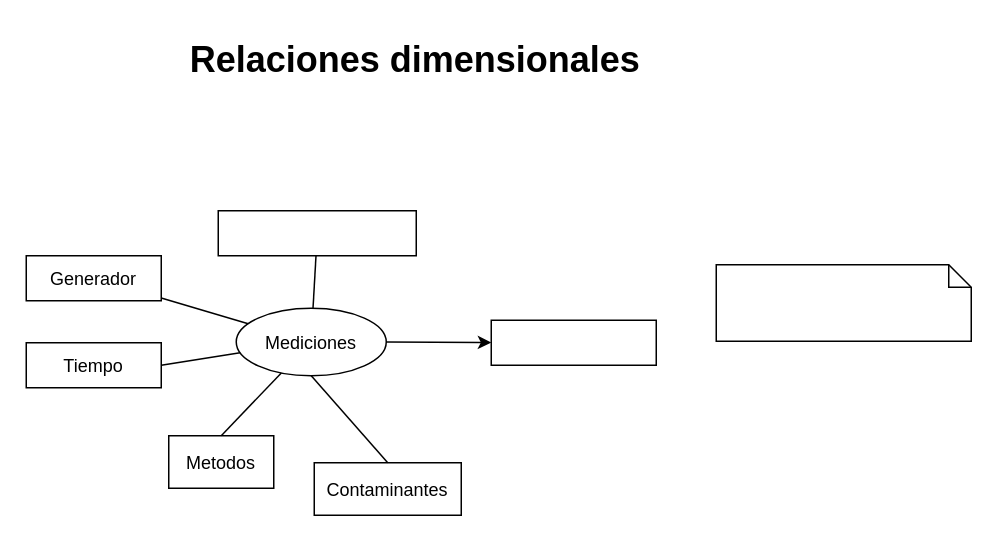
Image size: 998x542. Some labels were removed from this diagram. Each missing label, with the centre of its shape:
"Energia Generada" goes at point 573,342.
"Notas:" goes at point 843,302.
"UbicacionGeografica" goes at point 316,232.
